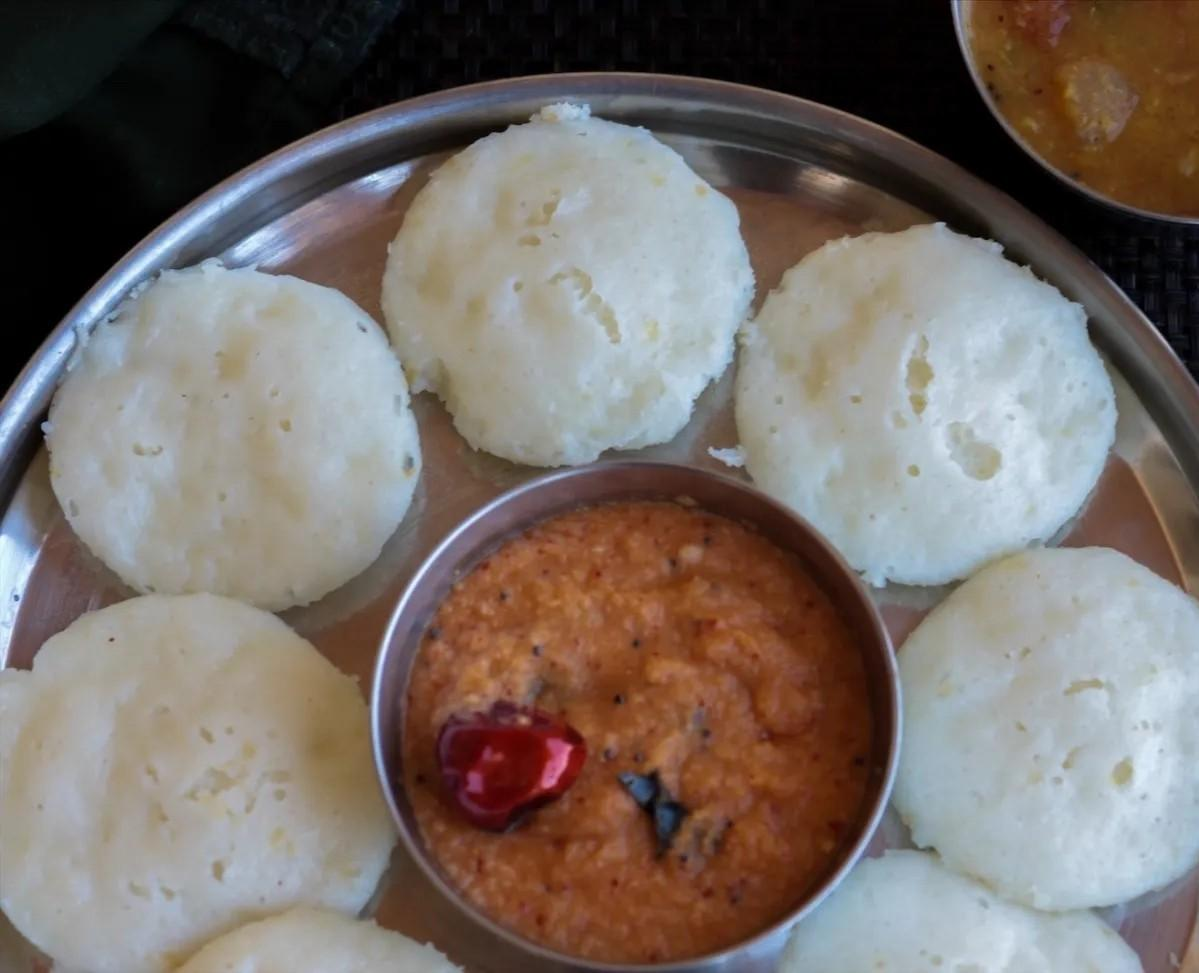Idli: (736, 228, 1123, 596), (5, 607, 386, 973), (380, 105, 756, 471), (37, 260, 426, 611), (897, 543, 1196, 908), (775, 852, 1141, 973), (167, 903, 476, 973)
